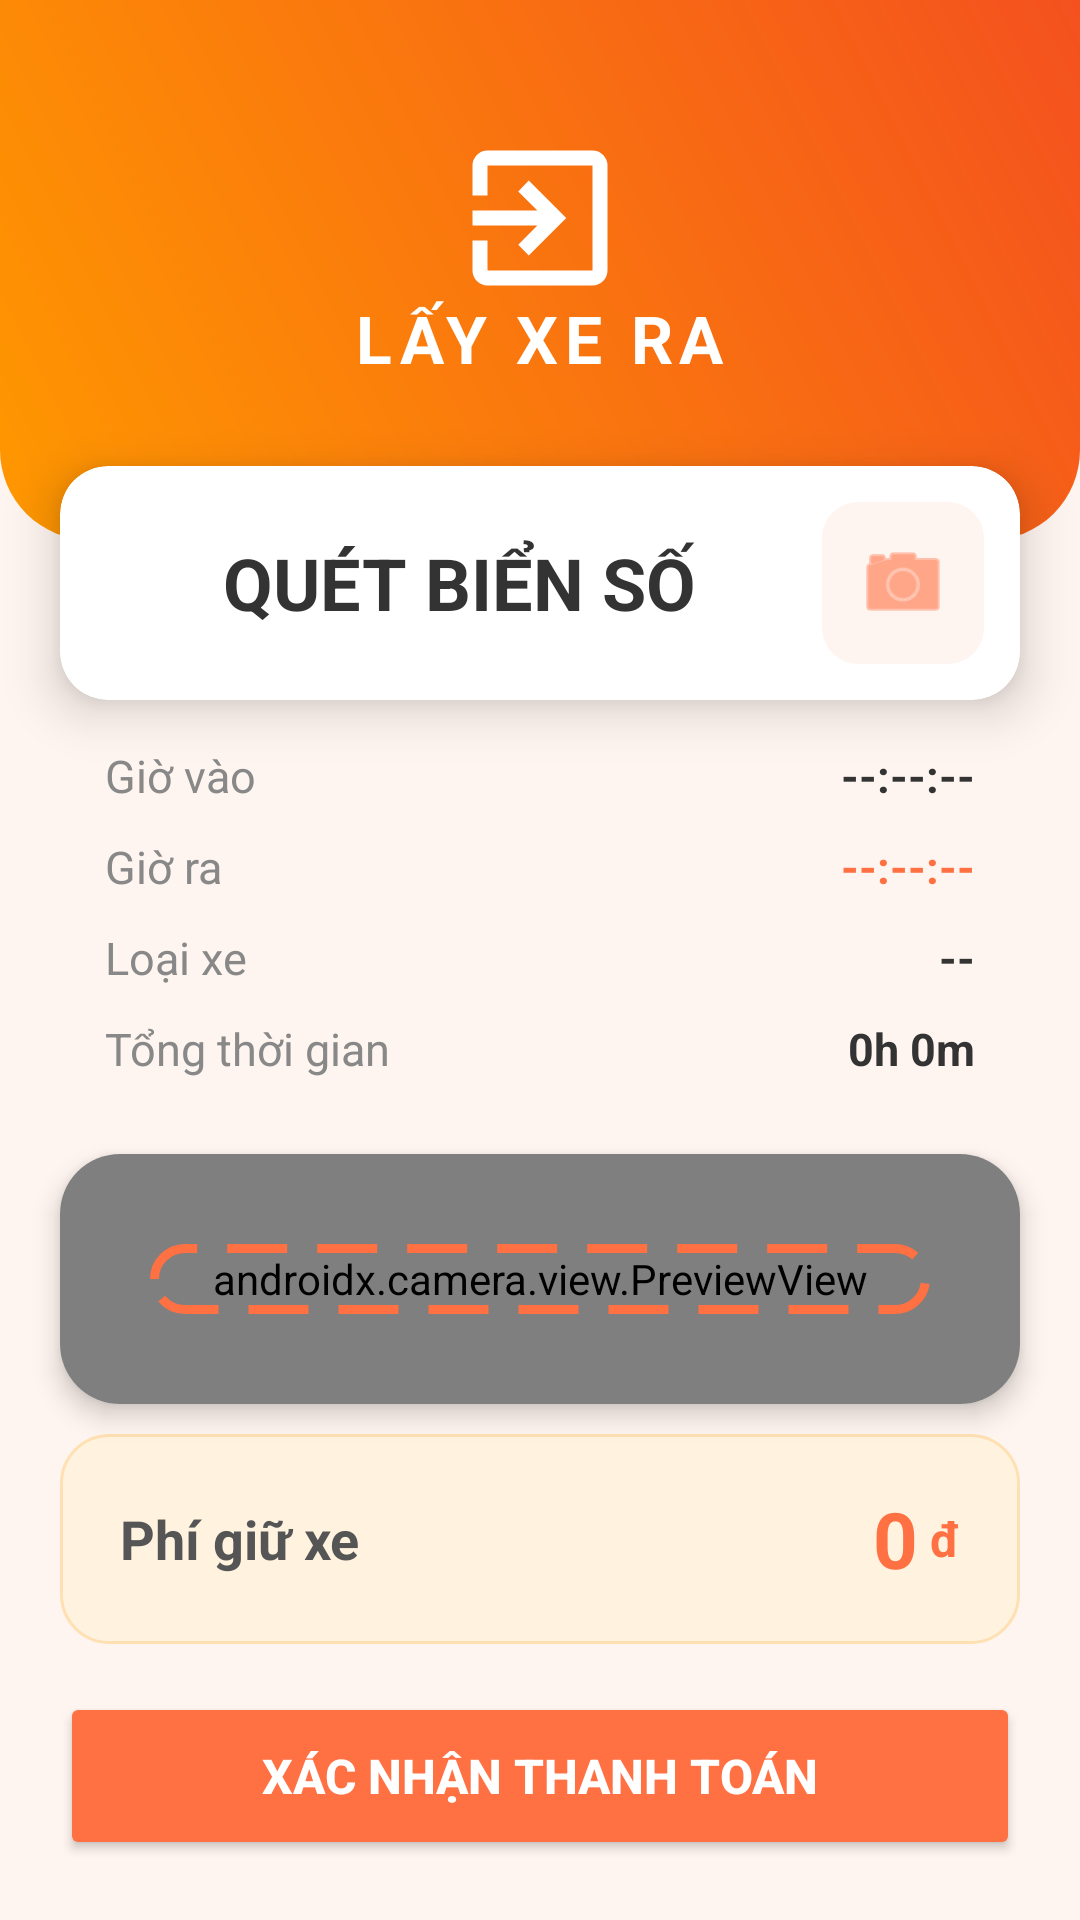

Where to tap for icons on this 1080×1920 app screen, as [x,y]:
camera: [903,581]
exit: [540,218]
